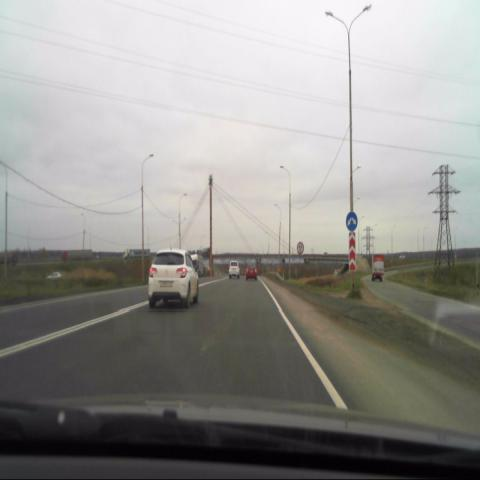4_2_3: (345, 209, 358, 230)
